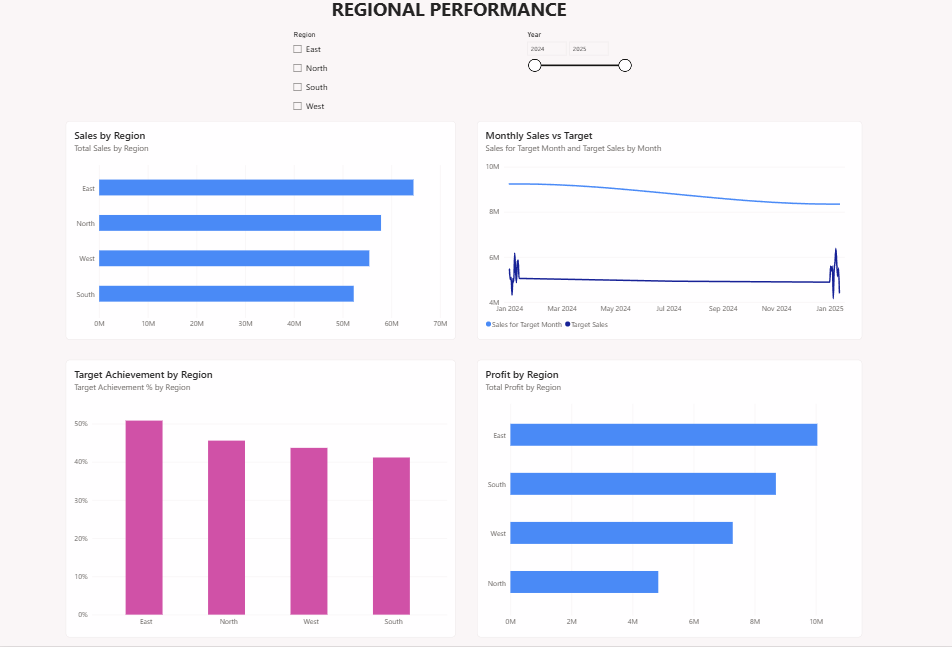

The page's visual inventory and layout, read from the dashboard file:
{"tool":"powerbi","page":{"name":"Regional Performance","canvas":[1920,1300],"ordinal":2},"visuals":[{"type":"clusteredBarChart","title":"Sales by Region","fields":{"Category":["DimCustomer.Region"],"Y":["FactSales.Total Sales"]},"box":[137.5,250,780,437.5],"z":0},{"type":"lineChart","title":"Monthly Sales vs Target","fields":{"Category":["MonthlyTargets.Month"],"Y":["FactSales.Sales for Target Month","MonthlyTargets.Target Sales"]},"box":[960,250,770,437.5],"z":1},{"type":"clusteredColumnChart","title":"Target Achievement by Region","fields":{"Category":["DimCustomer.Region"],"Y":["MonthlyTargets.Target Achievement %"]},"box":[137.5,727.5,780,555],"z":2},{"type":"clusteredBarChart","title":"Profit by Region","fields":{"Category":["DimCustomer.Region"],"Y":["FactSales.Total Profit"]},"box":[960,727.5,770,555],"z":3},{"type":"slicer","fields":{"Values":["DimCustomer.Region"]},"box":[585,67.5,468,235],"z":4},{"type":"slicer","fields":{"Values":["DimDate.Year"]},"box":[1052.5,67.5,220,235],"z":5},{"type":"textbox","box":[0,0,1798,68],"z":6}]}

Visuals, with their boxes in screenshot pixels (x1, y1, x2, y2), scaled from the page's 1920x1300 canvas onto the 952x647 screenshot:
"Sales by Region" clusteredBarChart: l=68, t=124, r=455, b=342
"Monthly Sales vs Target" lineChart: l=476, t=124, r=858, b=342
"Target Achievement by Region" clusteredColumnChart: l=68, t=362, r=455, b=638
"Profit by Region" clusteredBarChart: l=476, t=362, r=858, b=638
slicer - DimCustomer.Region: l=290, t=34, r=522, b=151
slicer - DimDate.Year: l=522, t=34, r=631, b=151
textbox: l=0, t=0, r=892, b=34
